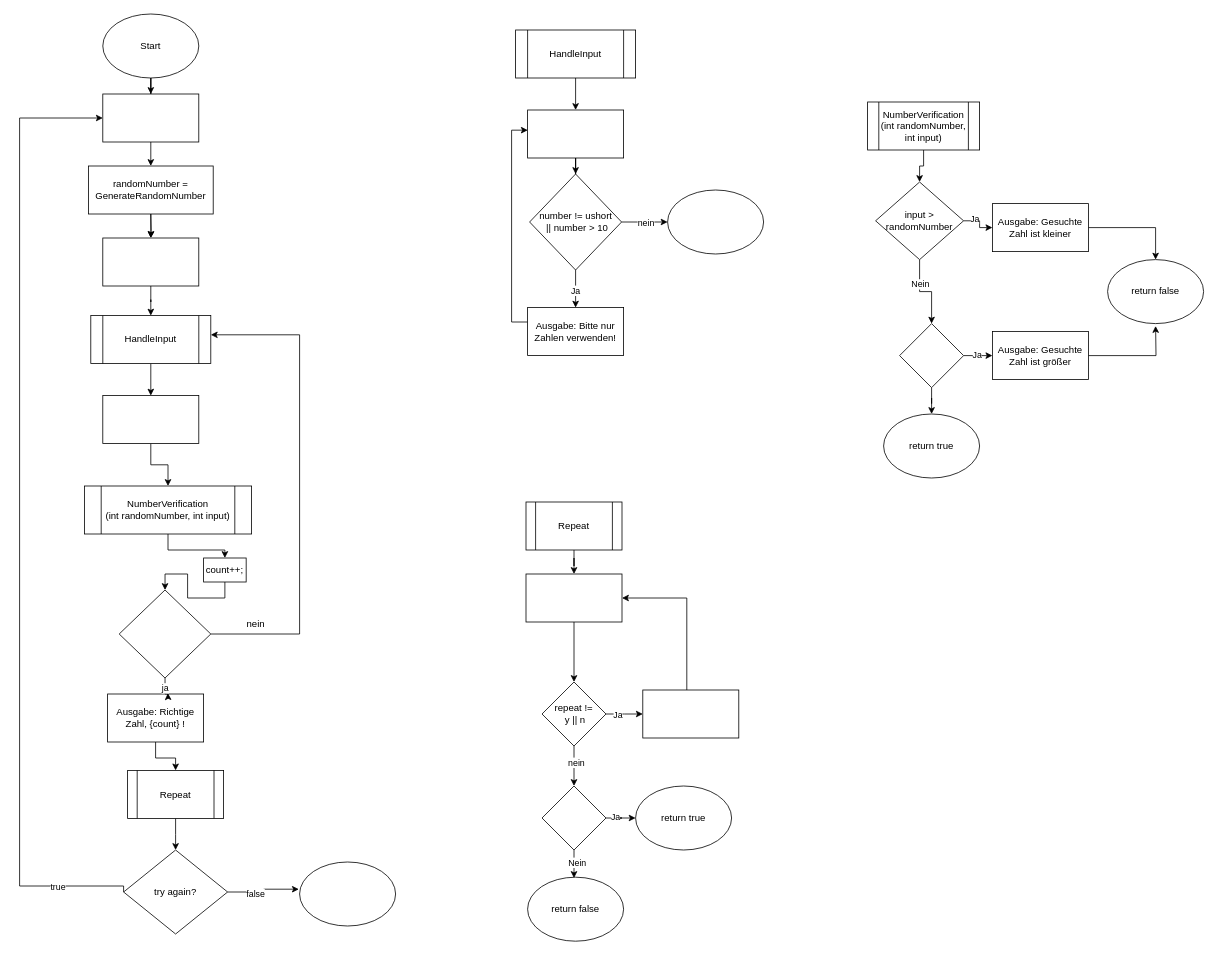
This 1218x955 diagram has some shape labels left out. Each missing label, with the centre of its shape:
"Ausgabe: Verwende nur y oder n" belongs at point (690, 713).
"Eingabe: GuessedNumber" belongs at point (575, 133).
"Eingabe: repeat" belongs at point (573, 597).
"Ende" belongs at point (347, 893).
"input = Returned Value" belongs at point (150, 419).
"int count = 0;" belongs at point (150, 117).
"Is number verfied?" belongs at point (164, 633).
"number < random" belongs at point (931, 355).
"randomNumber = randomNumber" belongs at point (150, 261).
"repeat = y" belongs at point (573, 817).
"Return GuessedNumber" belongs at point (715, 221).
